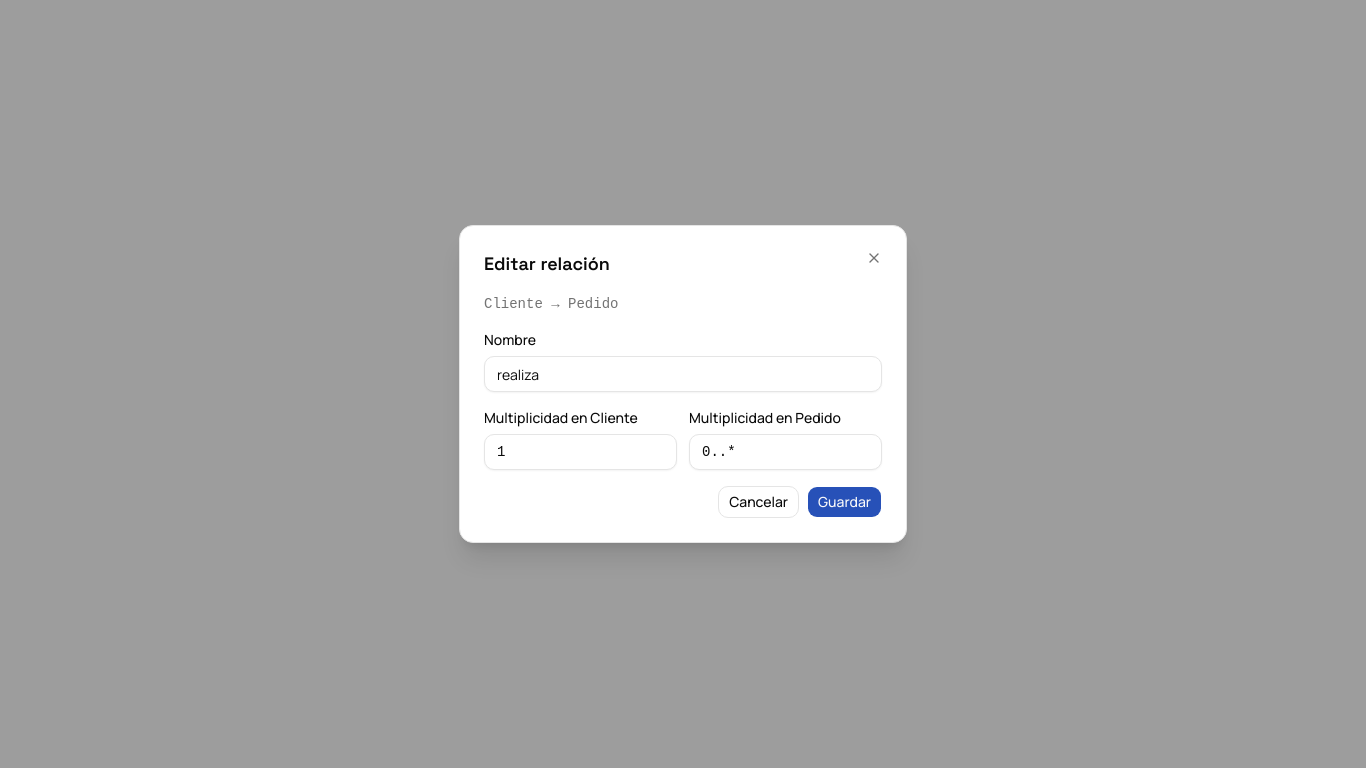
it: EditRelationshipDialog › rejects the multiplicity abc without sending anything
Replace the text in the field labelled "Multiplicidad en Cliente" with "abc": (580, 452) [484,434,677,470]
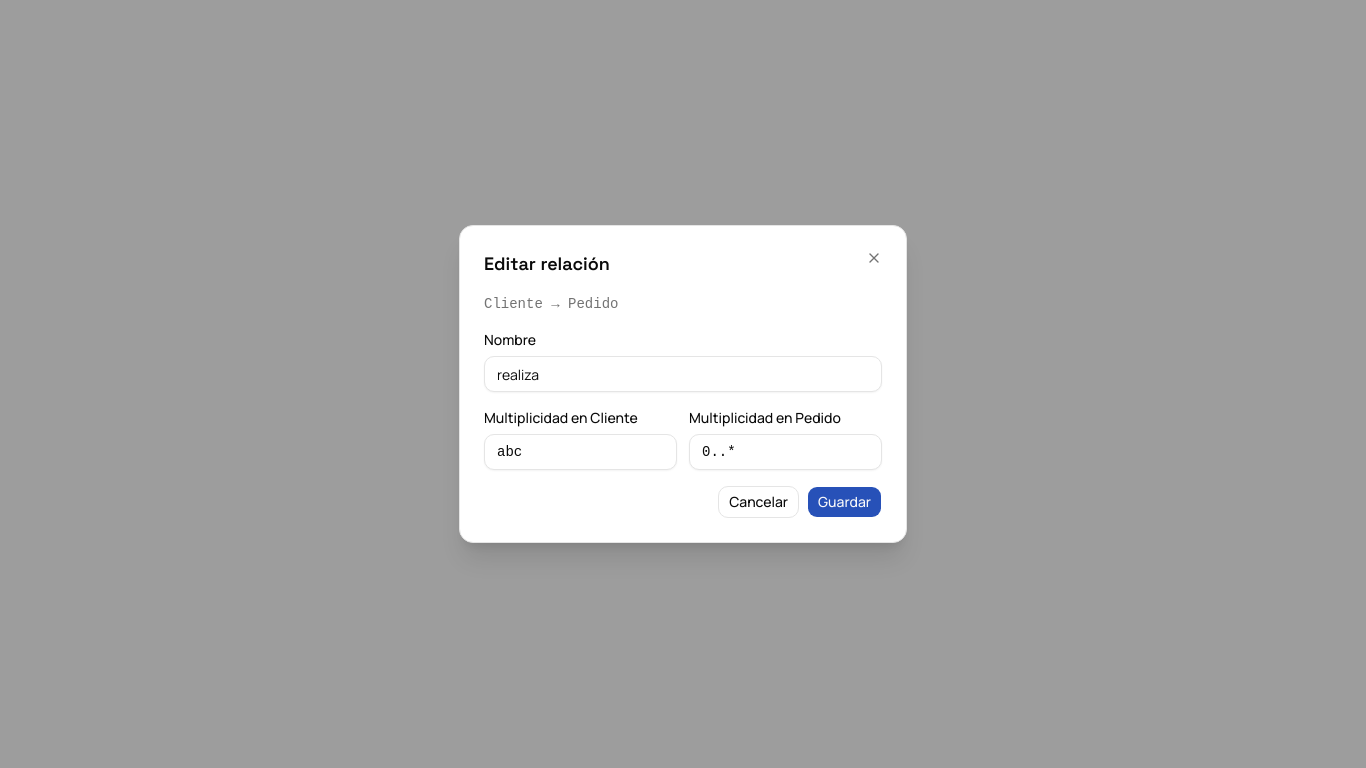
Click the button "Guardar": (845, 502) [807,486,882,518]
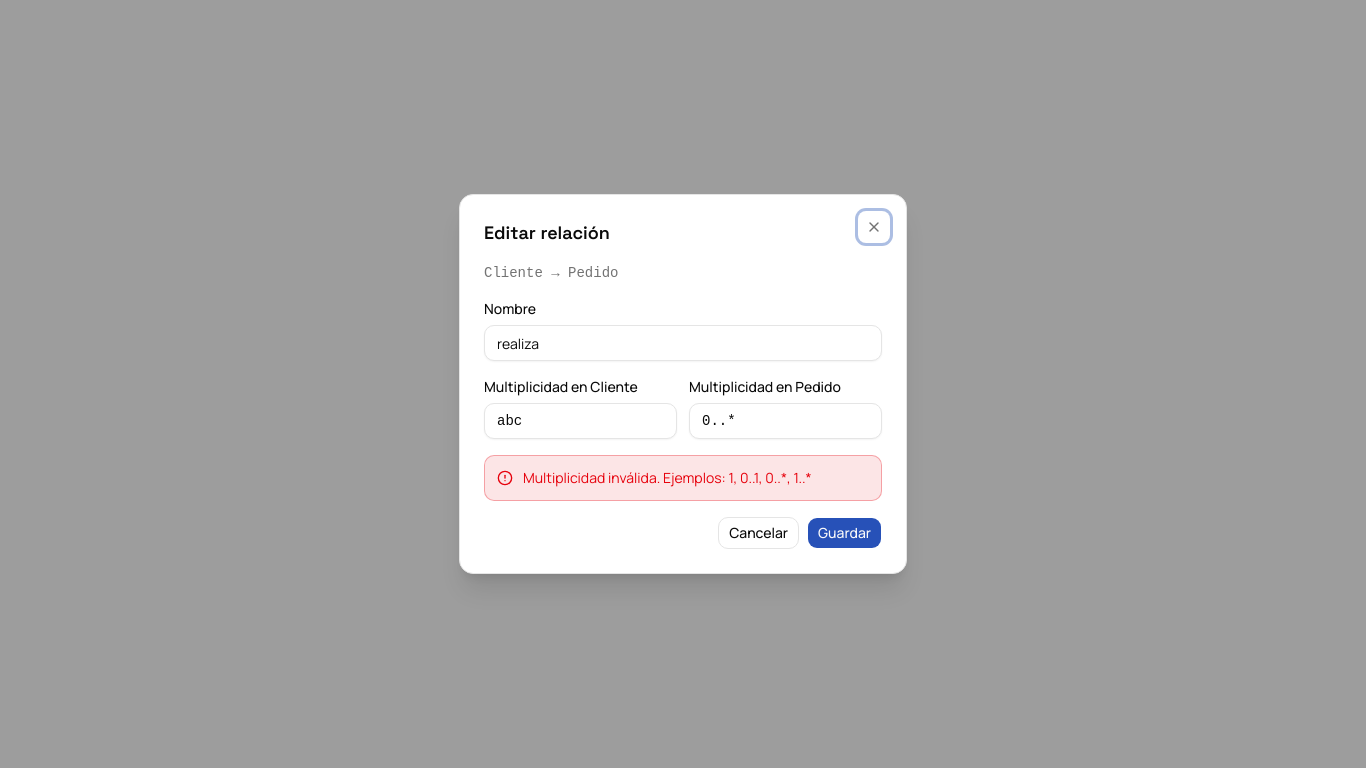
Expected: the text "Multiplicidad inválida. Ejemplos: 1, 0..1, 0..*, 1..*" is shown, [523,468,812,488]
